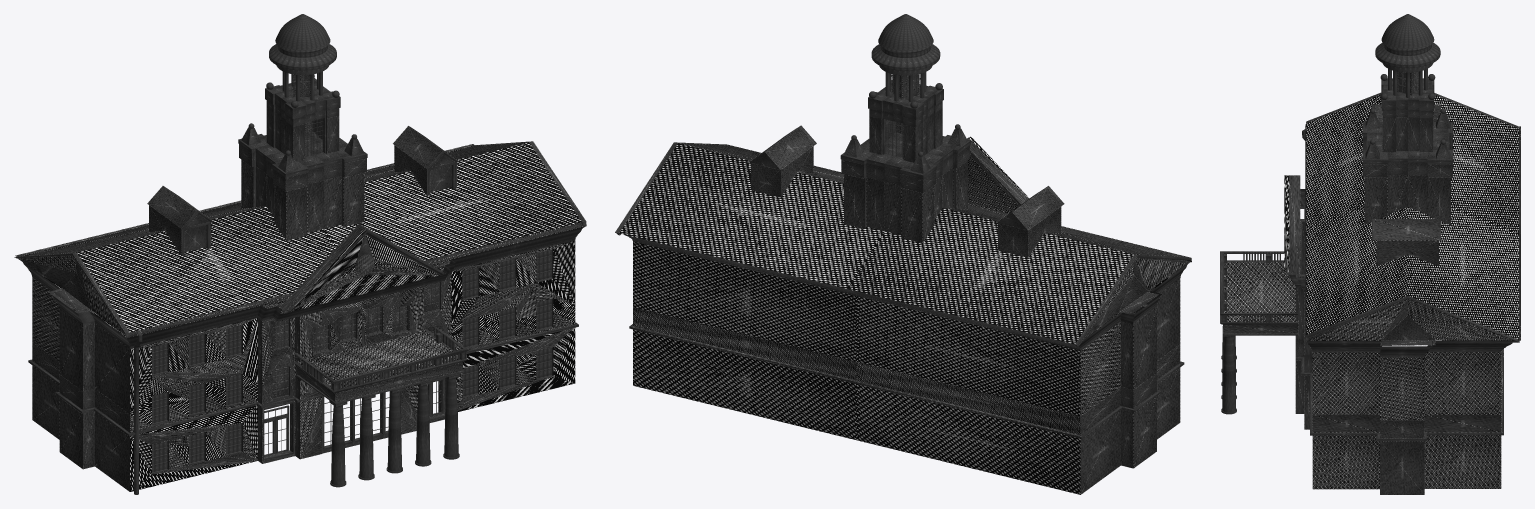
File: Museum.fbx
3 renders of one model, left to right at view 1: azimuth 30°, elevation 25°; view 2: azimuth 150°, elevation 25°; view 3: azimuth 270°, elevation 25°, orthographic. The views are drawn at different scales.
Parts seen in each view (by area): view 1: Building; view 2: Building; view 3: Building.
Boxes of the visible parts, x1=… form: Building: x1=14, y1=14, x2=586, y2=494; Building: x1=615, y1=14, x2=1191, y2=494; Building: x1=1220, y1=14, x2=1520, y2=494.
Bounding box in the file's own units: 3219 × 2478 × 1811.
